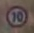limite 70: (6, 5, 26, 27)
